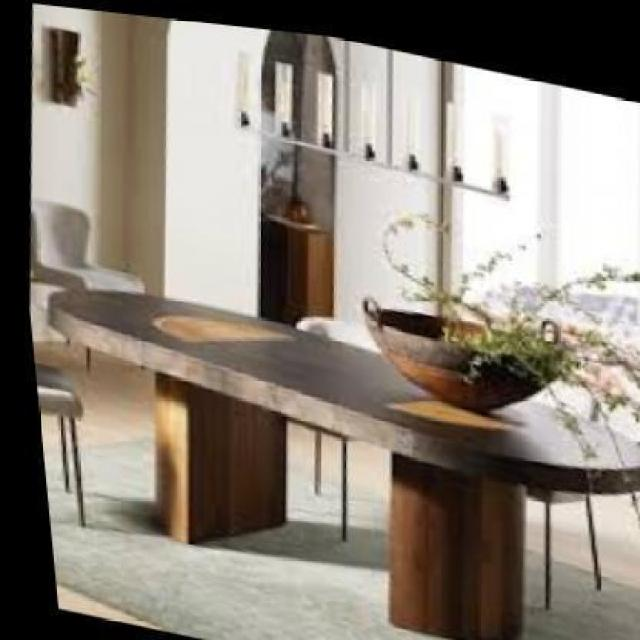tables: (46, 284, 639, 638)
